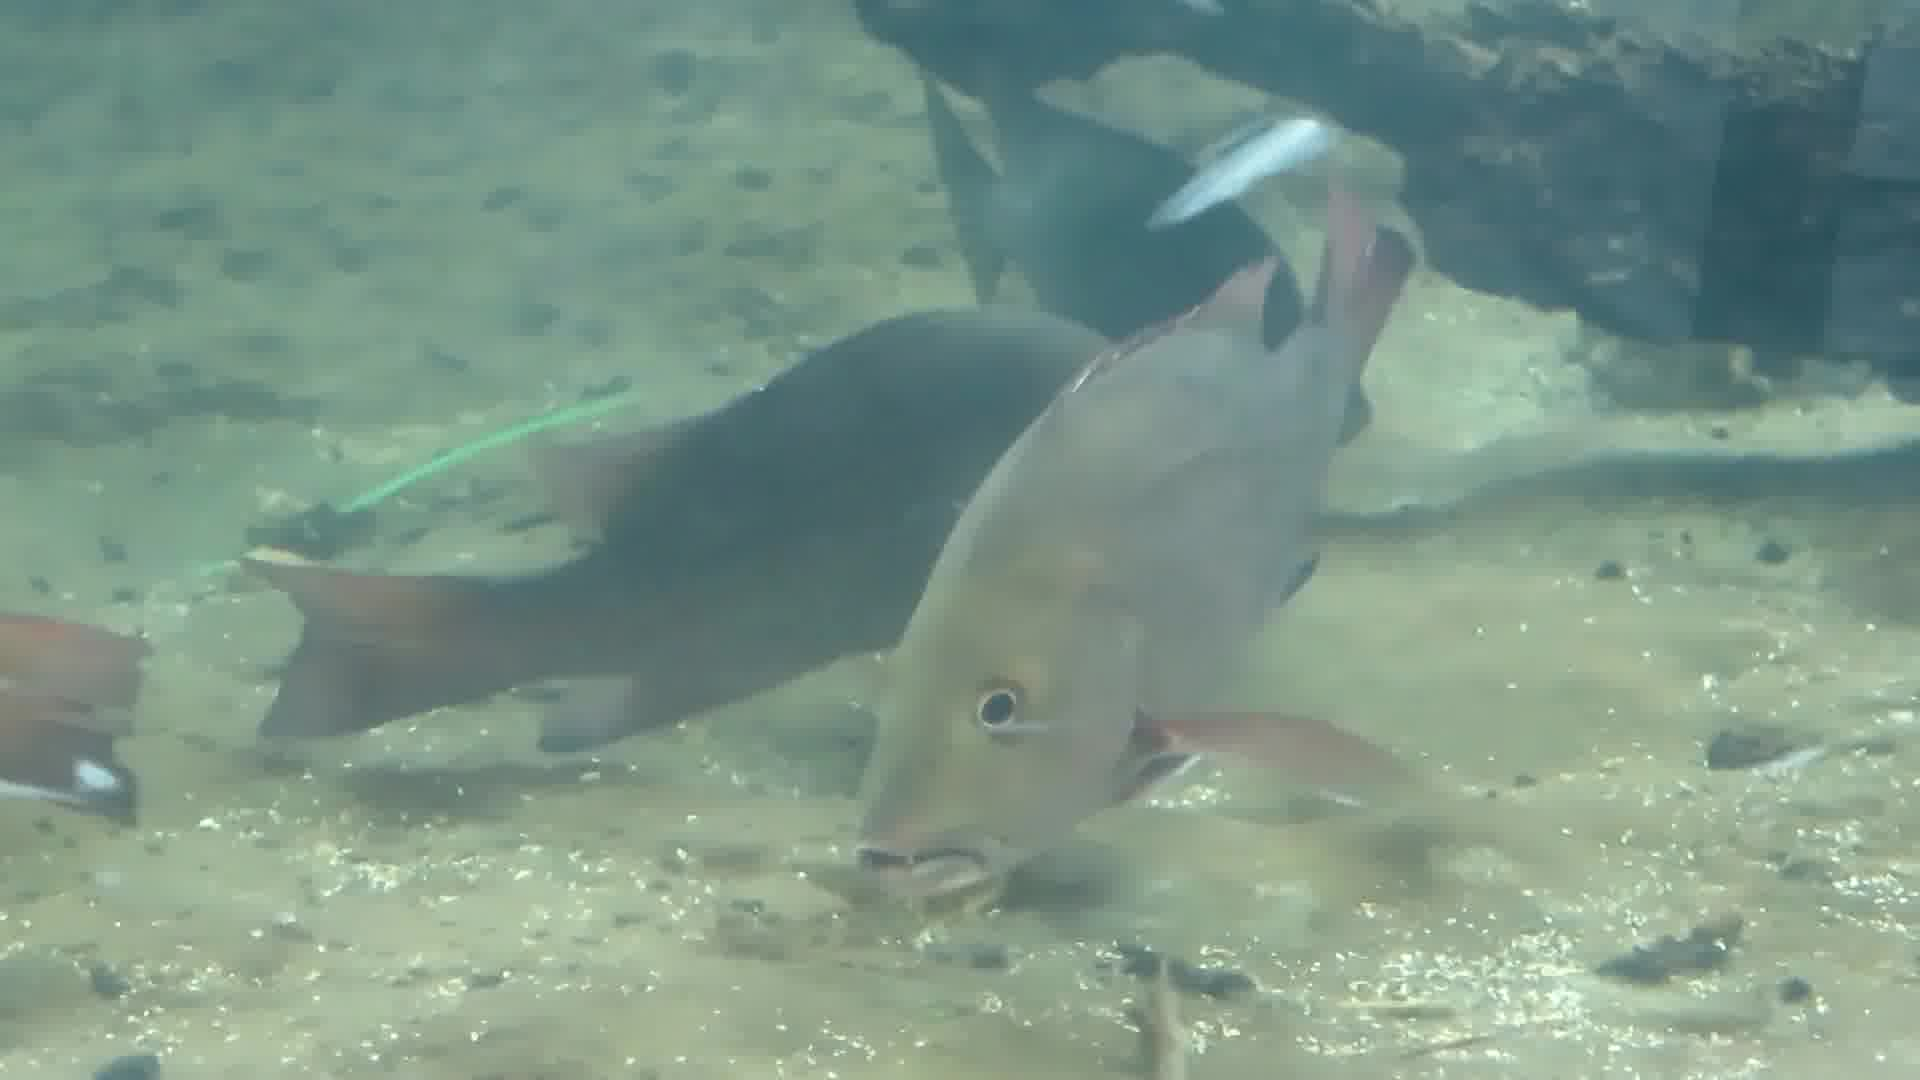Lutjanus argentimaculatus: (880, 276, 1425, 898)
